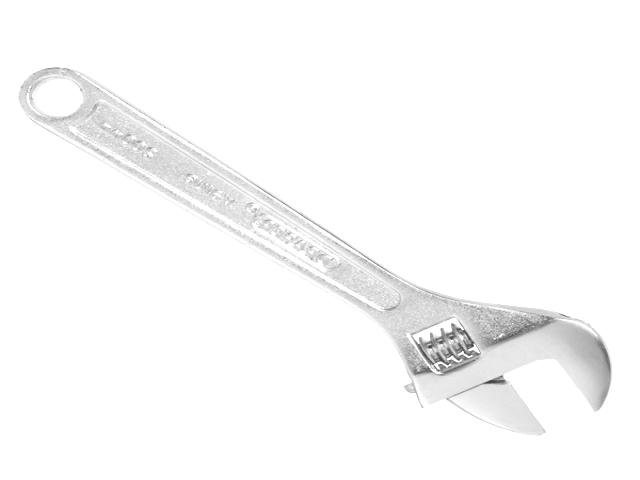Adjustable spanner: (19, 68, 611, 435)
